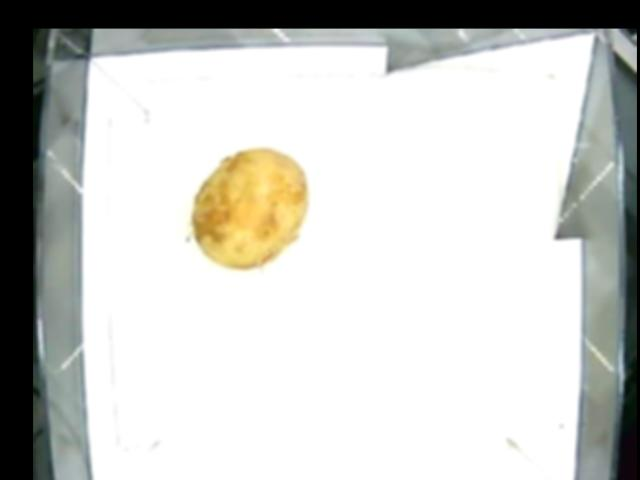Potato: (192, 149, 307, 269)
